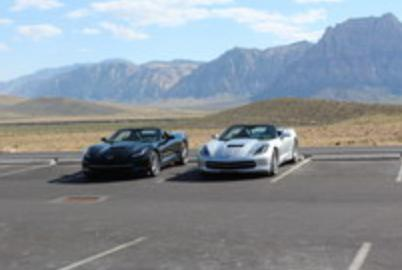car: (73, 119, 191, 184), (194, 112, 301, 175)
